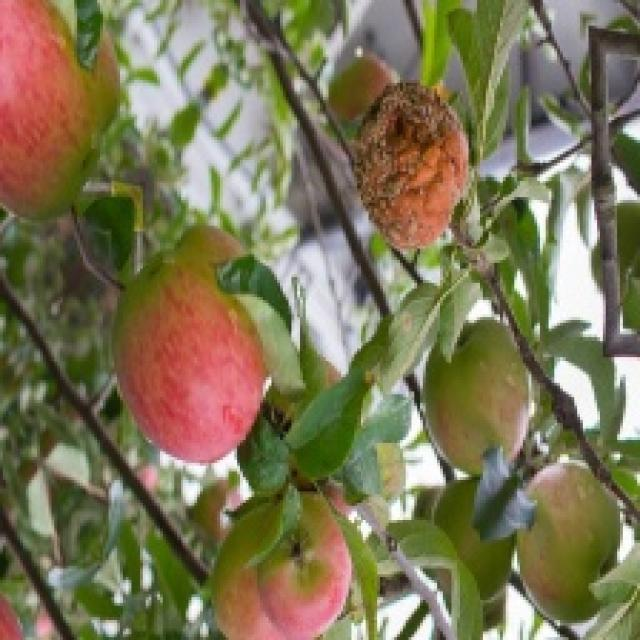rotten_apple: (362, 83, 465, 238)
